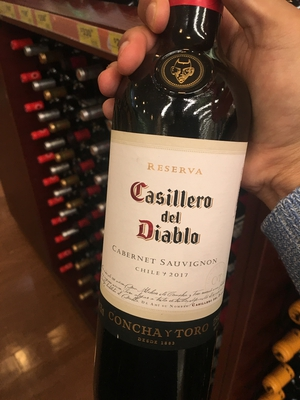casillero del diablo cabernet sauvignon: (82, 12, 253, 400)
